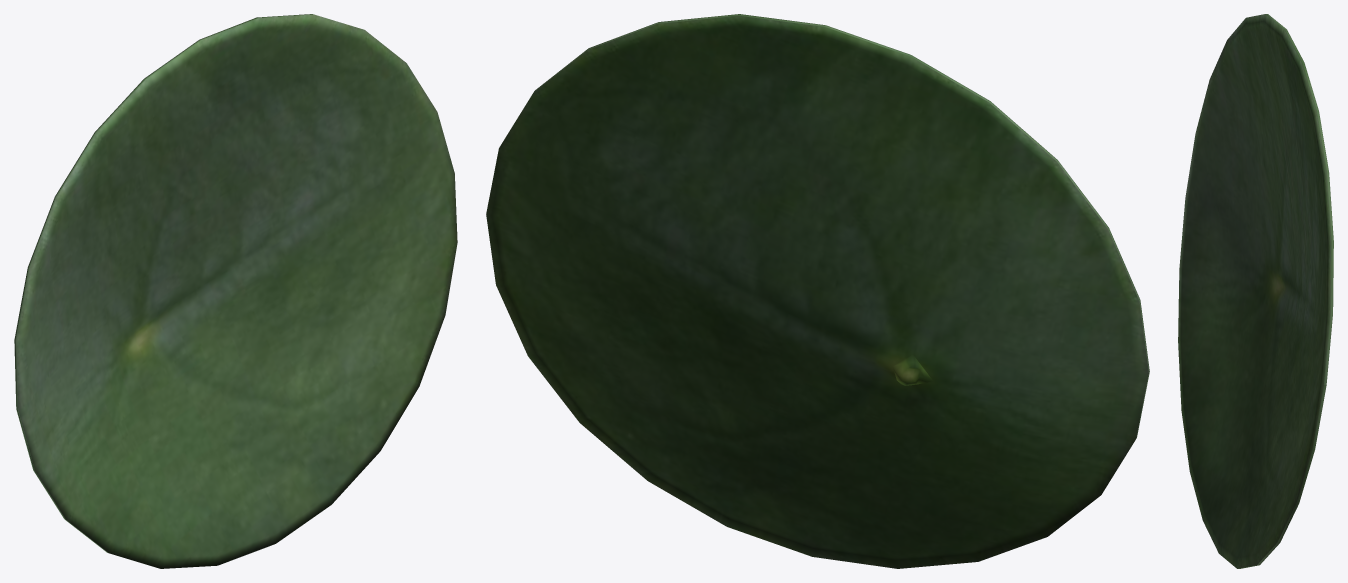
3 renders of one model, left to right at view 1: azimuth 30°, elevation 25°; view 2: azimuth 150°, elevation 25°; view 3: azimuth 270°, elevation 25°, orthographic. The views are drawn at different scales.
Parts seen in each view (by area): view 1: Plane.008; view 2: Plane.008; view 3: Plane.008.
Part boxes in pixels (<box>): Plane.008: <box>14,14,457,568</box>; Plane.008: <box>486,14,1149,568</box>; Plane.008: <box>1178,14,1333,568</box>.
Bounding box in the file's own units: 1.16 × 1.08 × 0.3022.
Materials: 1 (1 with a texture image).
